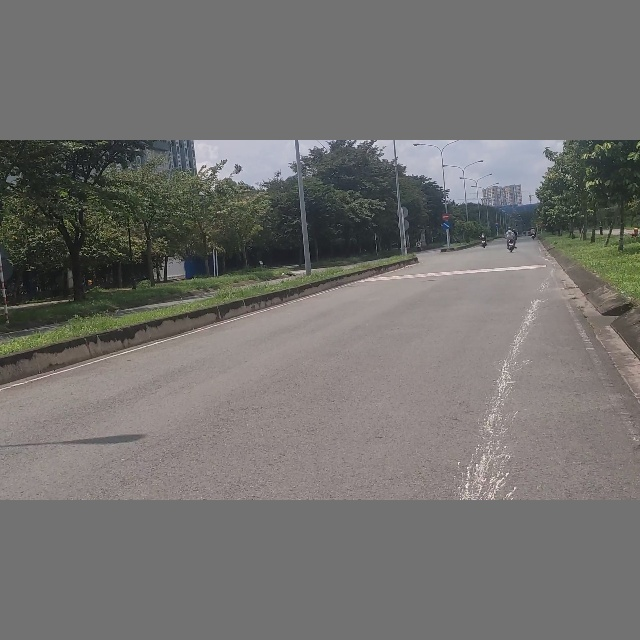P.102: (442, 213, 450, 221)
R.302a: (442, 221, 451, 229)
